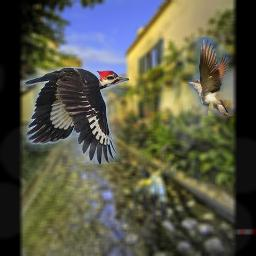Cuckoo: (188, 37, 254, 116)
Woodpecker: (20, 67, 129, 164)
